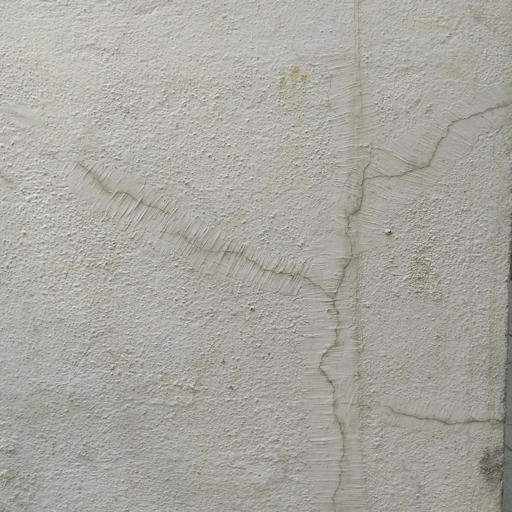minor_crack: (64, 88, 511, 512)
